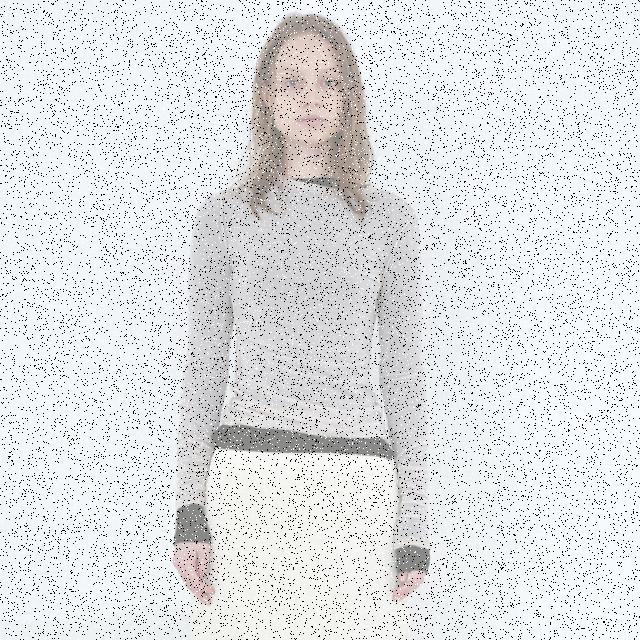dress: (147, 163, 486, 528)
